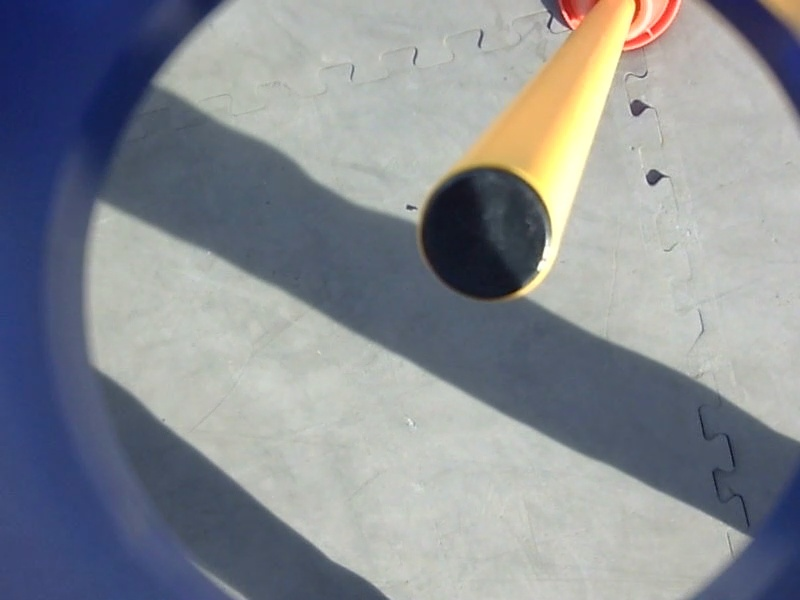tip: (406, 162, 562, 311)
